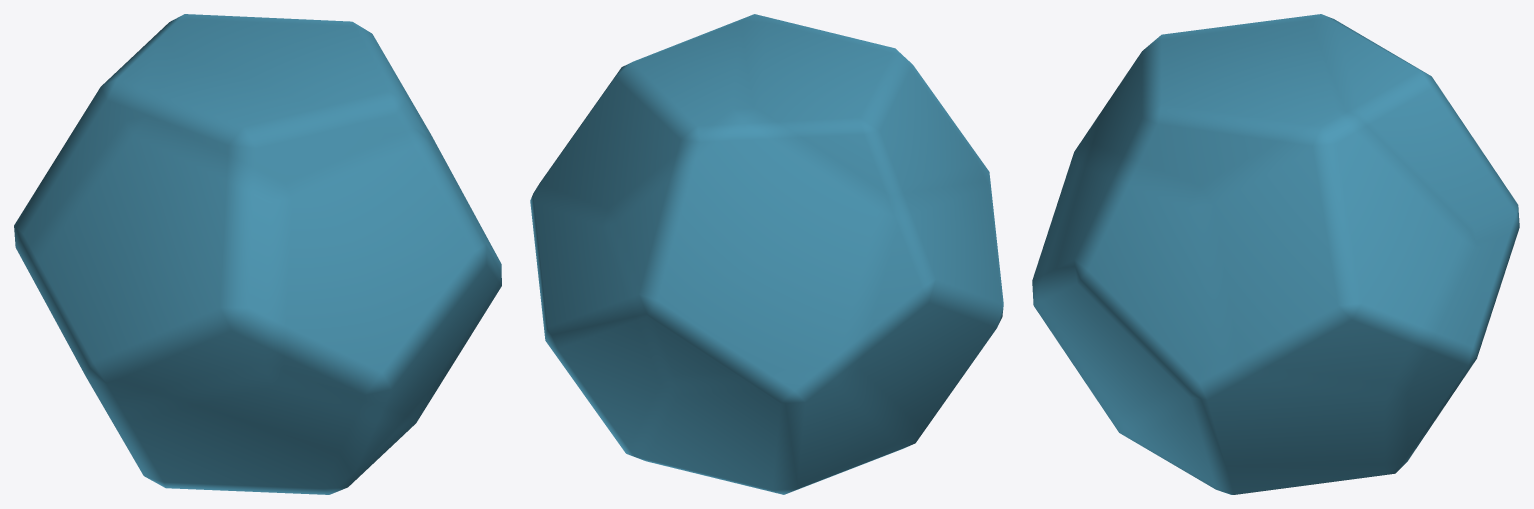
Rendered from crystal_dodecahedron.fbx.
3 views of the same model, side by side, from view 1: azimuth 30°, elevation 25°; view 2: azimuth 150°, elevation 25°; view 3: azimuth 270°, elevation 25° (orthographic). The views are drawn at different scales.
Visible parts, largest first — view 1: dodecahedron; view 2: dodecahedron; view 3: dodecahedron.
Part boxes in pixels (x1=…): dodecahedron: x1=14, y1=14, x2=501, y2=494; dodecahedron: x1=530, y1=14, x2=1003, y2=494; dodecahedron: x1=1032, y1=14, x2=1519, y2=494.
Bounding box in the file's own units: 39.43 × 34.64 × 41.25.
